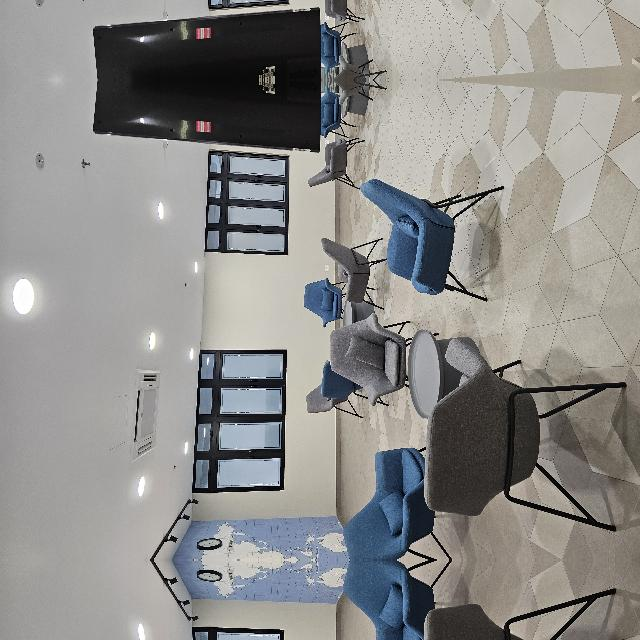obstacle: (0, 404, 382, 640), (0, 410, 382, 640)
